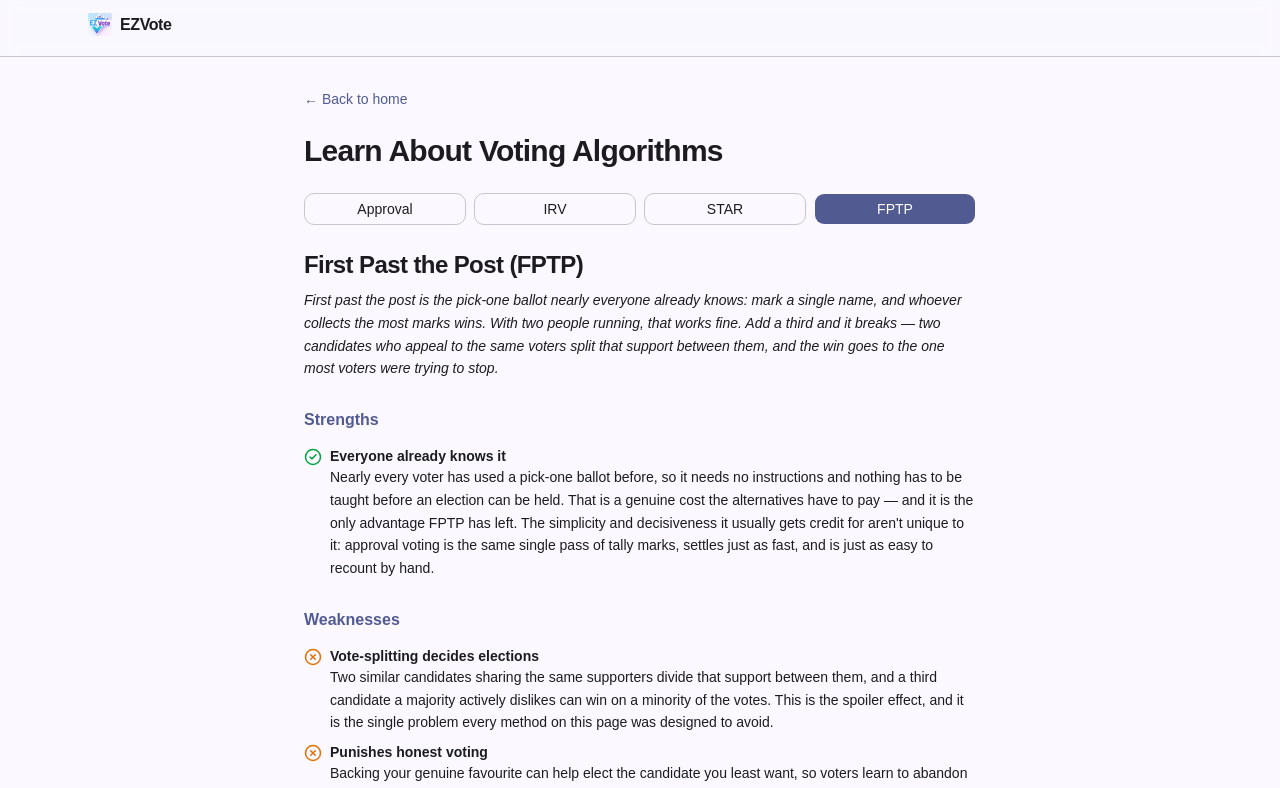
Test: #129 FPTP reads as the baseline, not a fourth option › gives no verdict to the methods EZVote actually recommends
What coordinates should you click on to do the following:
click the tab "Approval"
I would click on:
 (385, 209)
Its box is left=304, top=193, right=466, bottom=225.
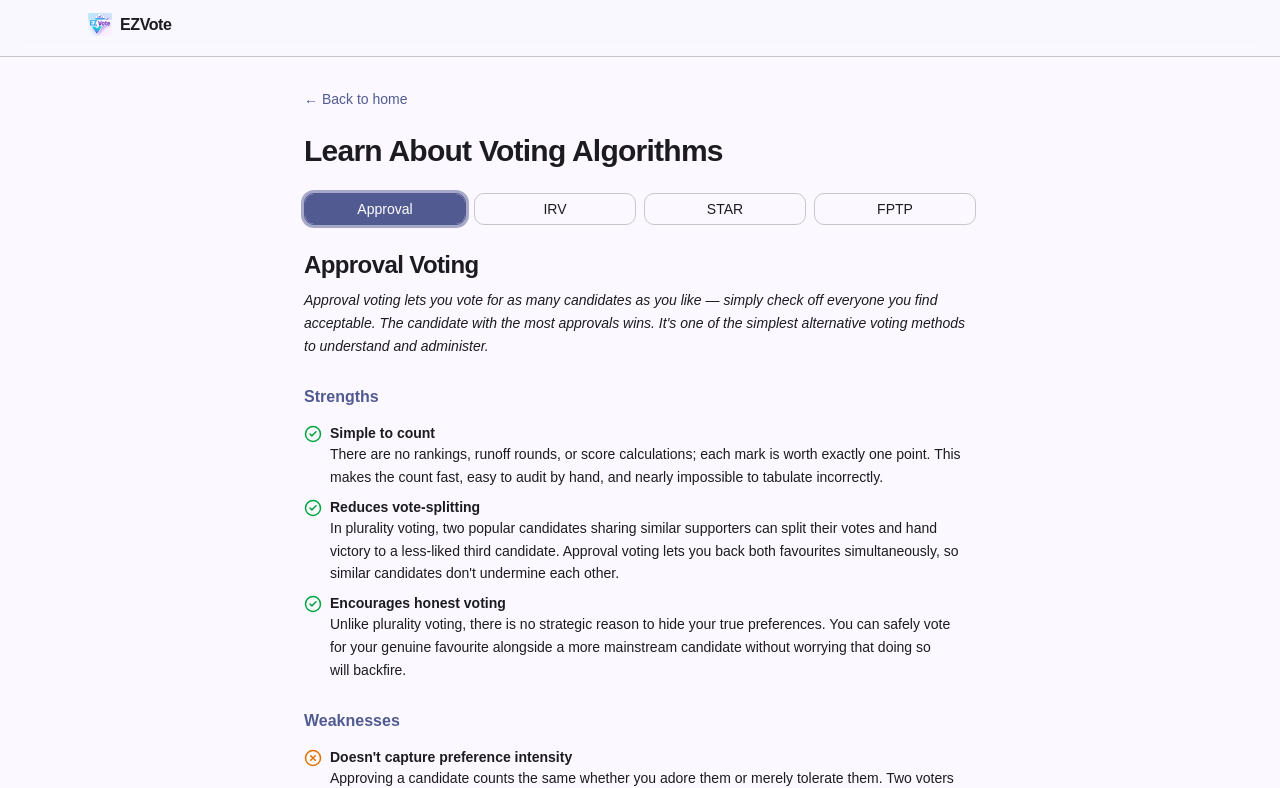
Now the heading "Approval Voting" is shown, box left=304, top=251, right=479, bottom=278
